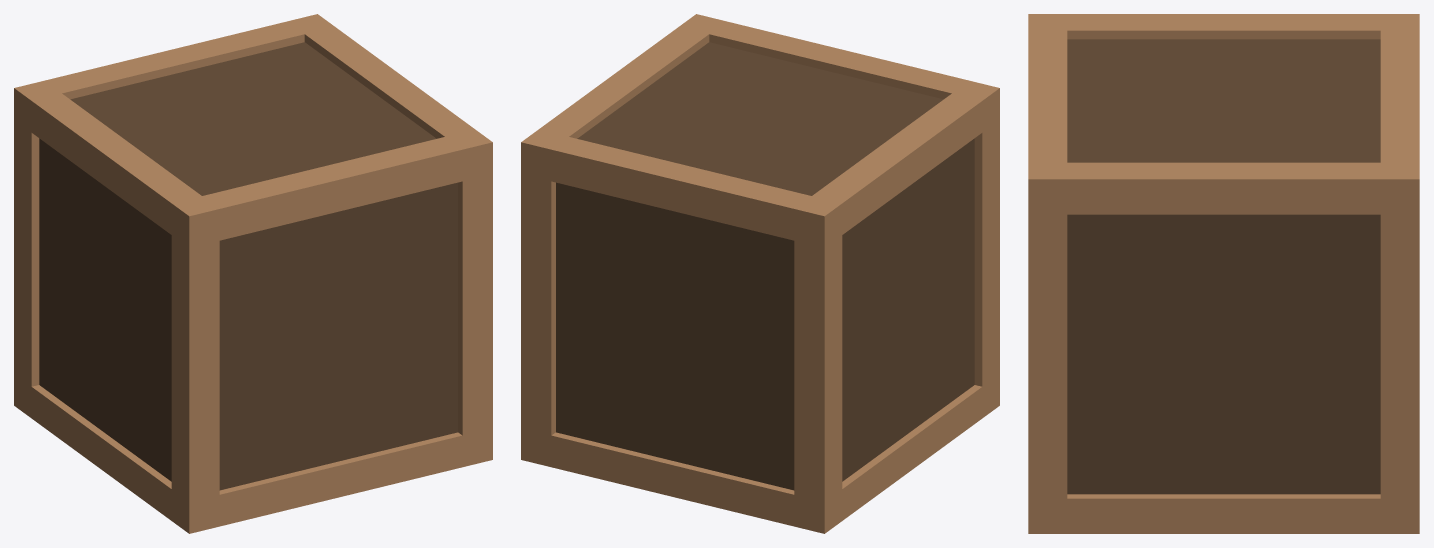
The model's file is rm_prop_crate.fbx.
3 renders of one model, left to right at view 1: azimuth 30°, elevation 25°; view 2: azimuth 150°, elevation 25°; view 3: azimuth 270°, elevation 25°, orthographic. The views are drawn at different scales.
Parts seen in each view (by area): view 1: RM_Prop_Crate; view 2: RM_Prop_Crate; view 3: RM_Prop_Crate.
Part boxes in pixels (left/top/right/bottom): RM_Prop_Crate: left=14, top=14, right=492, bottom=533; RM_Prop_Crate: left=521, top=14, right=999, bottom=533; RM_Prop_Crate: left=1028, top=14, right=1419, bottom=533.
Size of the model in its own units: 200 by 200 by 200.
